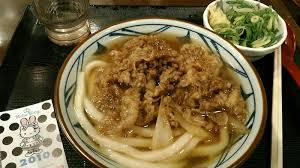niku: (51, 12, 272, 167)
